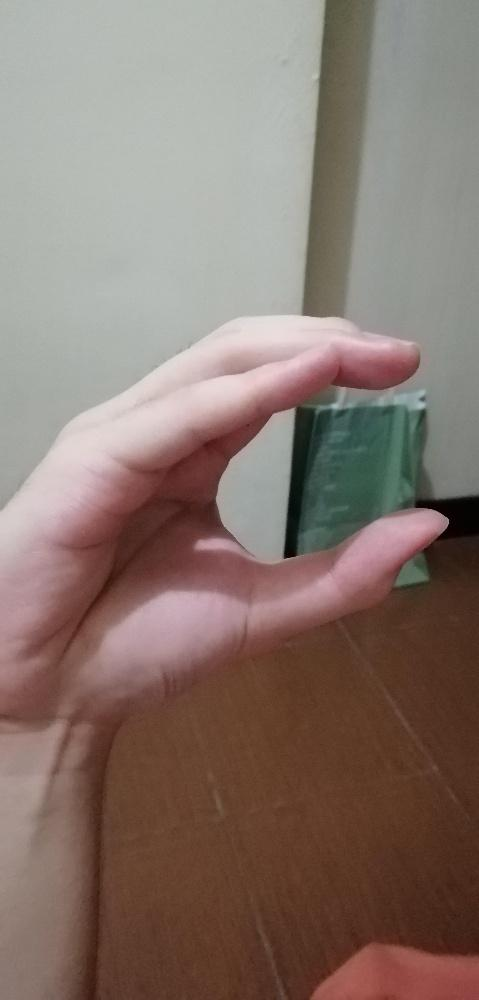c: (0, 311, 451, 715)
